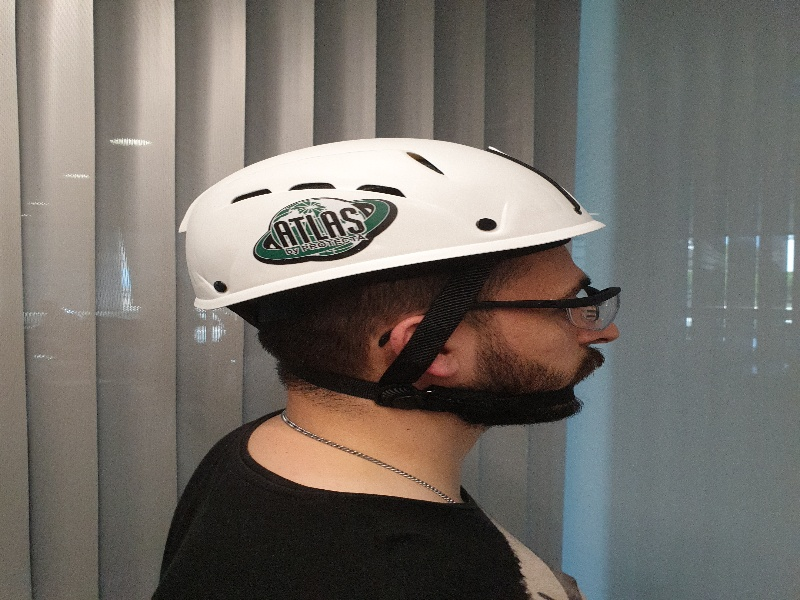Baret: (186, 138, 606, 289)
Gozluk: (441, 288, 621, 334)
